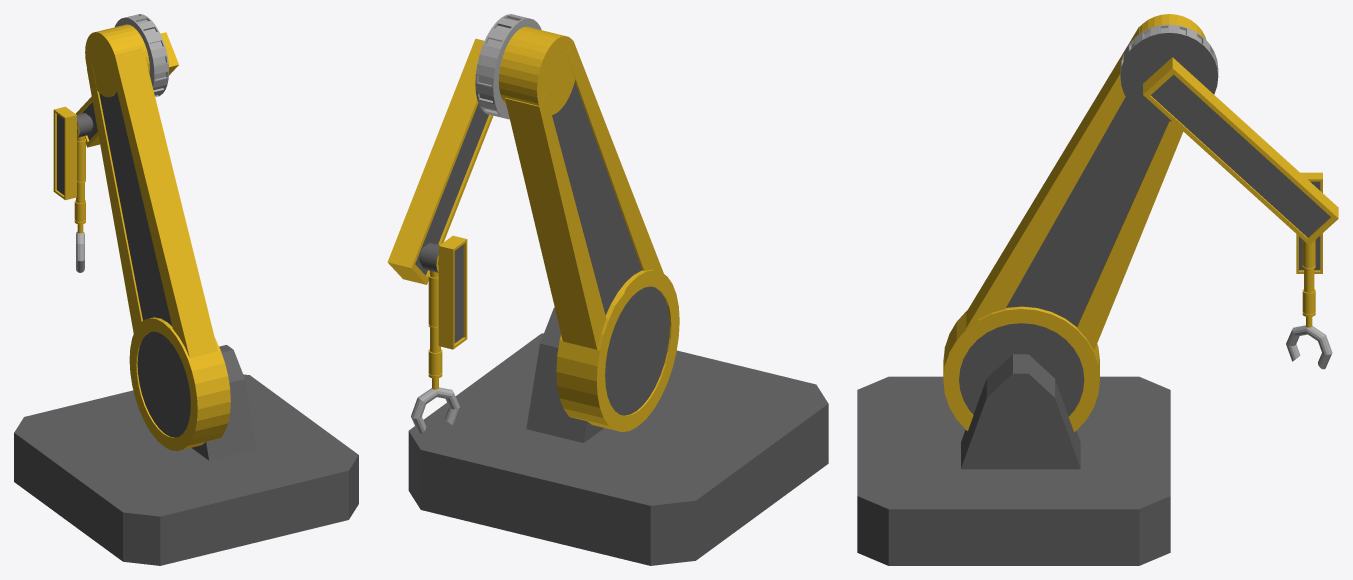
File: machine_arm.fbx
3 views of the same model, side by side, from view 1: azimuth 30°, elevation 25°; view 2: azimuth 150°, elevation 25°; view 3: azimuth 270°, elevation 25° (orthographic). The views are drawn at different scales.
Visible parts, largest first — view 1: machine_arm_base, machine_arm_sub0, machine_arm_sub; view 2: machine_arm_base, machine_arm_sub, machine_arm_sub0, machine_arm_hook; view 3: machine_arm_base, machine_arm_sub, machine_arm_sub0, machine_arm_hook.
Part boxes in pixels (x1=…): machine_arm_base: x1=14, y1=14, x2=358, y2=565; machine_arm_sub0: x1=53, y1=106, x2=85, y2=233; machine_arm_sub: x1=76, y1=32, x2=178, y2=147; machine_arm_base: x1=408, y1=14, x2=828, y2=565; machine_arm_sub: x1=387, y1=38, x2=493, y2=284; machine_arm_sub0: x1=428, y1=235, x2=467, y2=389; machine_arm_hook: x1=411, y1=387, x2=459, y2=433; machine_arm_base: x1=857, y1=14, x2=1218, y2=565; machine_arm_sub: x1=1143, y1=57, x2=1338, y2=245; machine_arm_sub0: x1=1296, y1=172, x2=1322, y2=327; machine_arm_hook: x1=1286, y1=325, x2=1332, y2=369.
Bounding box in the file's own units: 60 × 102 × 92.17.
